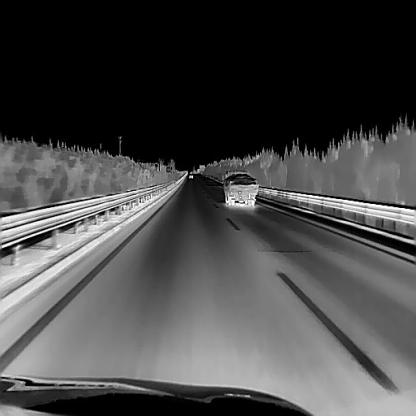car: (188, 171, 193, 178)
truck: (220, 169, 258, 205)
